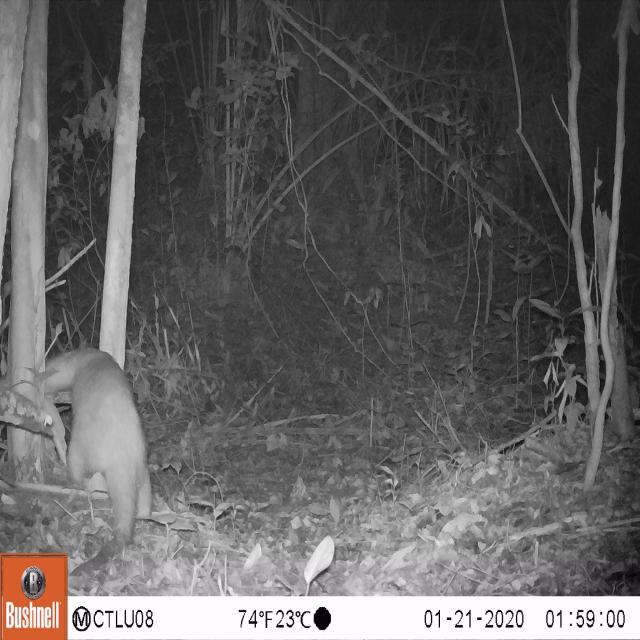Southern Tamandua: (44, 332, 157, 577)
